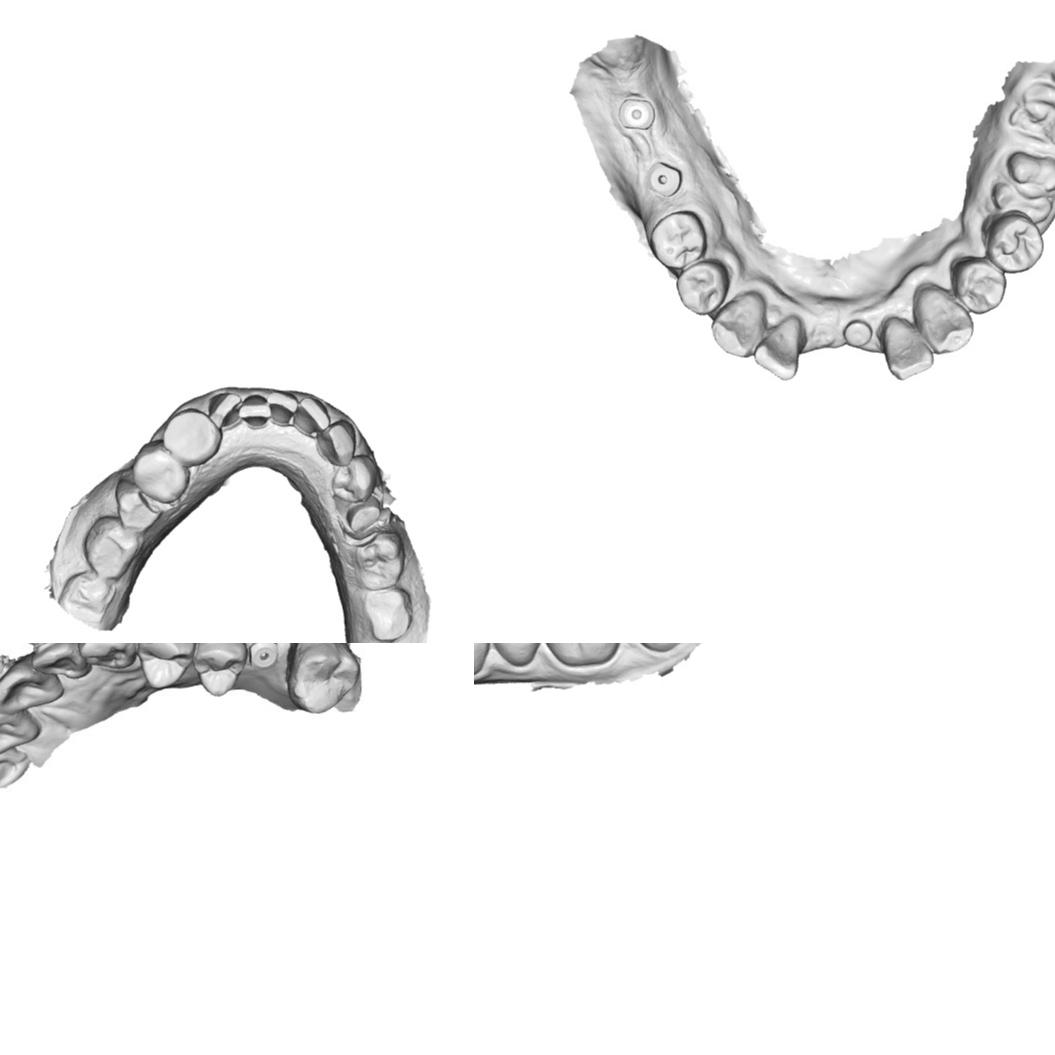canine: (709, 289, 768, 360), (916, 286, 972, 356), (160, 406, 220, 468), (316, 417, 359, 468), (78, 643, 140, 672)
crown: (345, 492, 386, 532)
implant: (616, 94, 660, 138), (643, 161, 681, 197), (840, 317, 872, 349), (250, 643, 280, 672)
incisor: (0, 659, 64, 714), (883, 318, 933, 380), (756, 323, 808, 380), (30, 643, 92, 686), (0, 710, 44, 763), (292, 394, 332, 437), (206, 379, 239, 430), (0, 746, 31, 794), (265, 386, 299, 428), (239, 391, 272, 429)
molar: (282, 643, 360, 716), (81, 514, 143, 581), (56, 568, 117, 625), (354, 528, 408, 590), (362, 587, 413, 643), (542, 643, 626, 668)
premolar: (982, 210, 1046, 274), (130, 438, 190, 506), (648, 209, 708, 273), (947, 255, 1007, 318), (190, 643, 247, 698), (676, 260, 729, 317), (110, 477, 157, 533), (135, 643, 191, 688), (330, 454, 379, 504), (486, 643, 545, 668)
